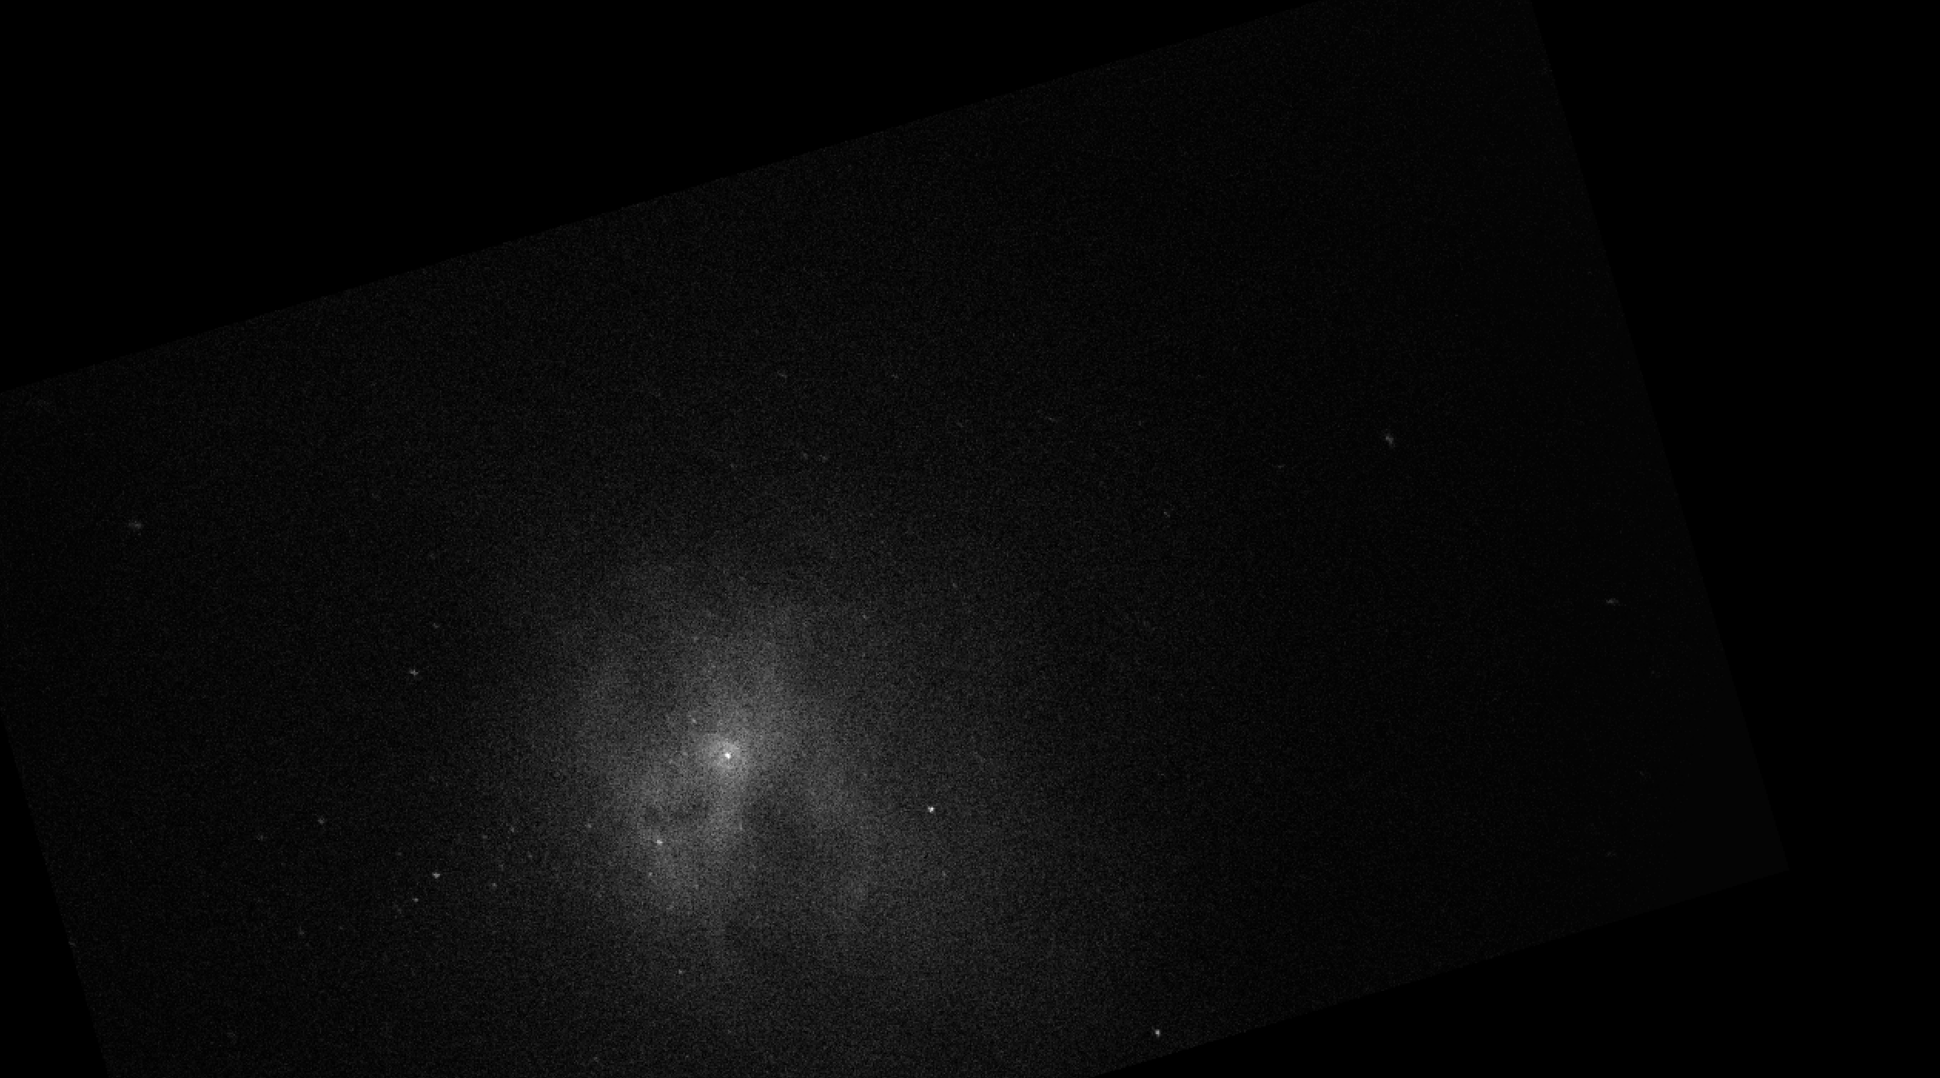Cavity: (770, 604, 880, 700), (597, 631, 702, 726), (728, 771, 823, 836), (721, 647, 762, 720), (636, 793, 717, 826), (707, 747, 721, 762)
Galaxy: (518, 574, 924, 951)
